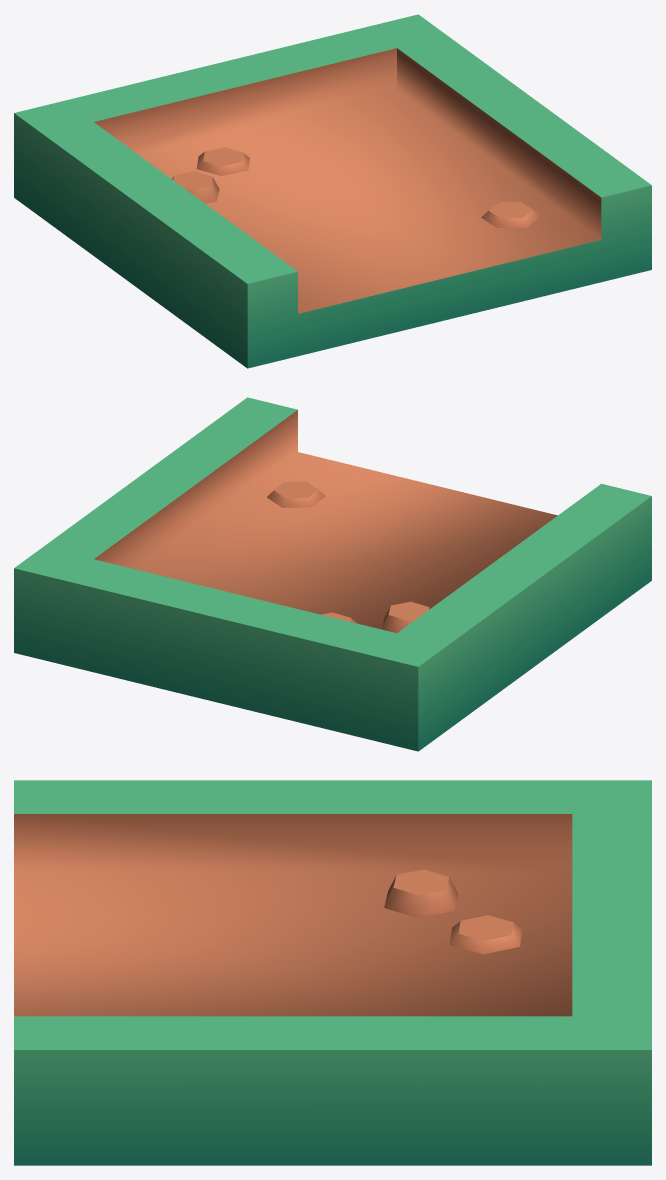
File: kenney-tower-defense-tile-end.glb
The picture shows the model from 3 angles, top to bottom: view 1: azimuth 30°, elevation 25°; view 2: azimuth 150°, elevation 25°; view 3: azimuth 270°, elevation 25°; orthographic projection. The views are drawn at different scales.
Parts seen in each view (by area): view 1: tile-end; view 2: tile-end; view 3: tile-end.
Boxes of the visible parts, x1,y1,x2,y2 form: tile-end: (14, 14, 651, 368); tile-end: (14, 397, 651, 751); tile-end: (14, 780, 651, 1165).
Bounding box in the file's own units: 1 × 0.2 × 1.
1 material, 1 textured.
